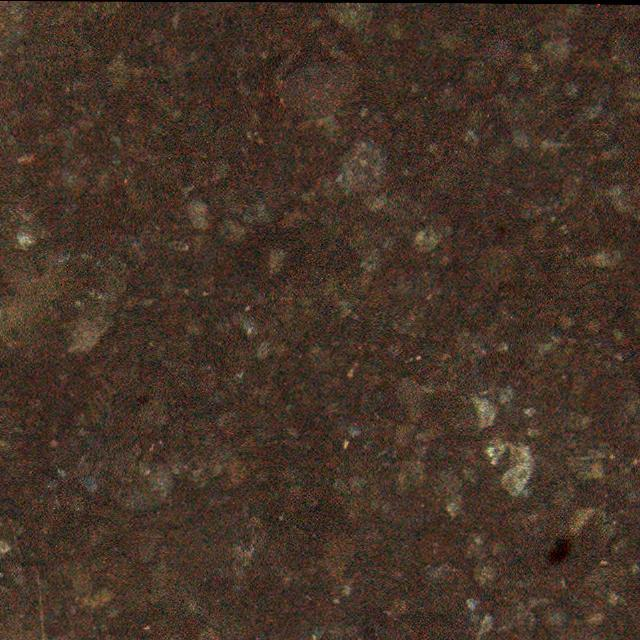crab: (268, 41, 370, 122)
